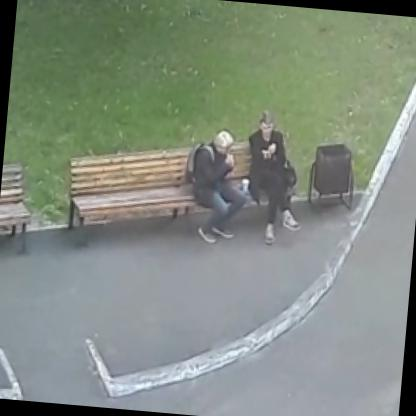Human Body: (237, 106, 325, 248), (175, 116, 256, 257)
